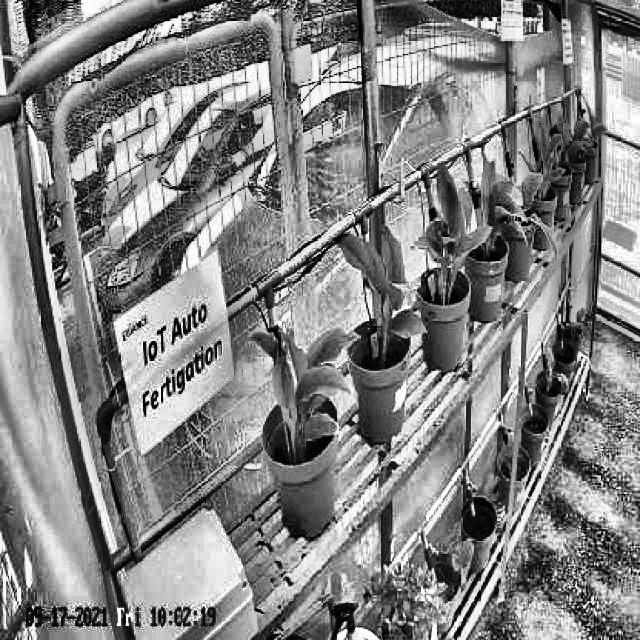plants: (249, 318, 360, 458), (334, 222, 429, 364), (416, 159, 492, 303), (460, 165, 529, 264), (527, 121, 567, 202)
